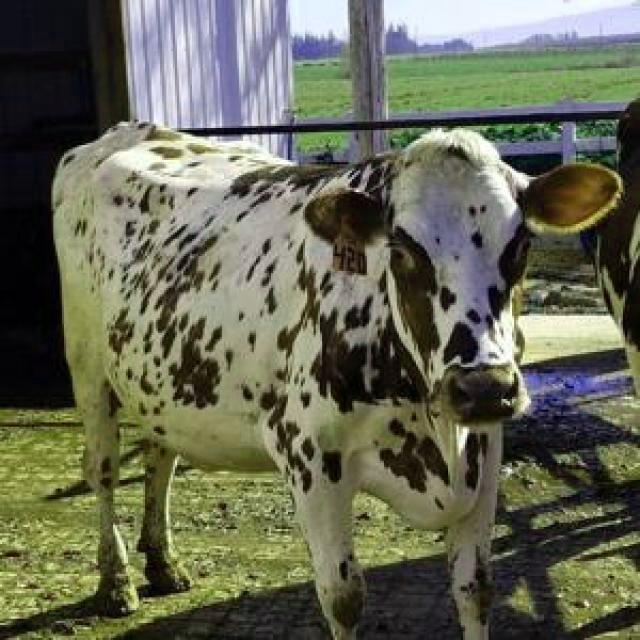cow: (52, 122, 619, 640)
